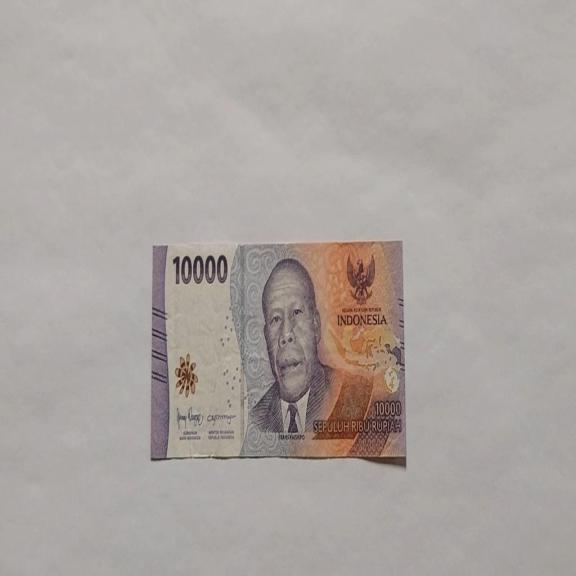Kertas: (151, 238, 406, 462), (171, 252, 228, 286)
